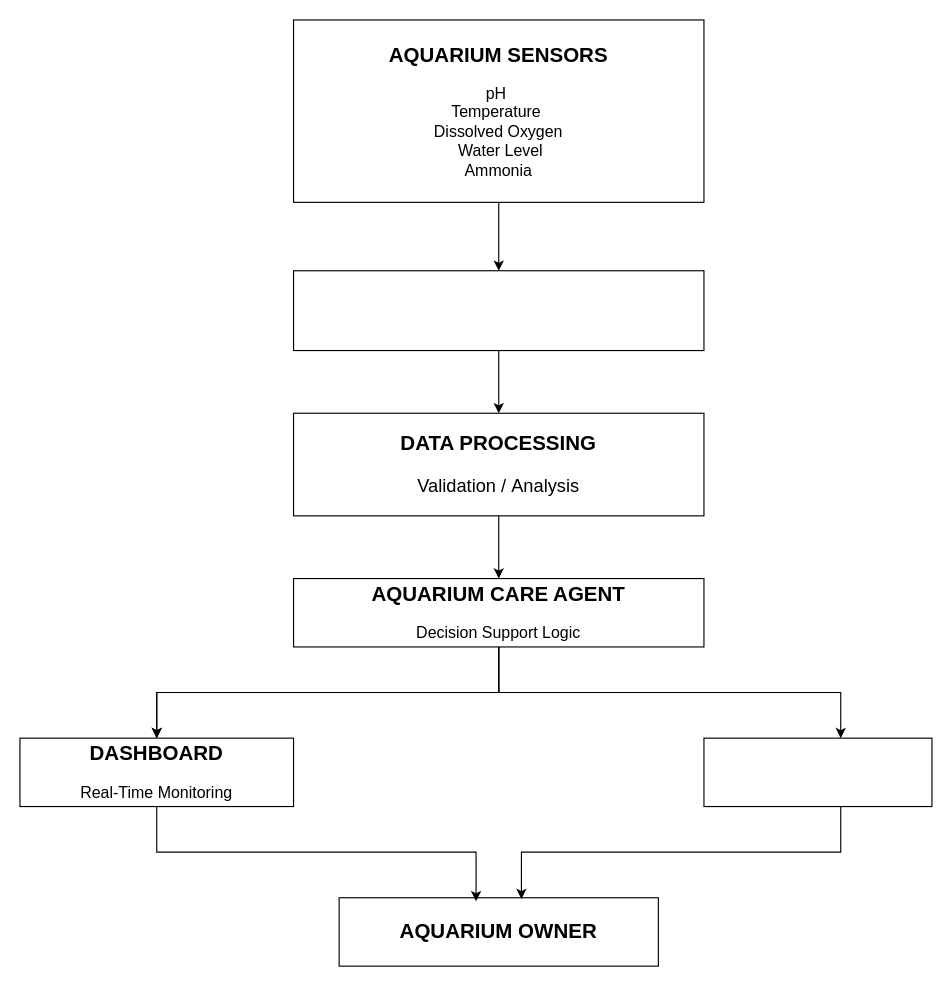
The diagram is 952 pixels wide and 986 high, and some of its shapes have lost their labels. The centre of each missing label's shape, as x and y in pixels:
"ALERT SYSTEM Critical Notifications" belongs at pixel 817 772.
"ESP32 CONTROLLER Data Collection" belongs at pixel 498 310.
